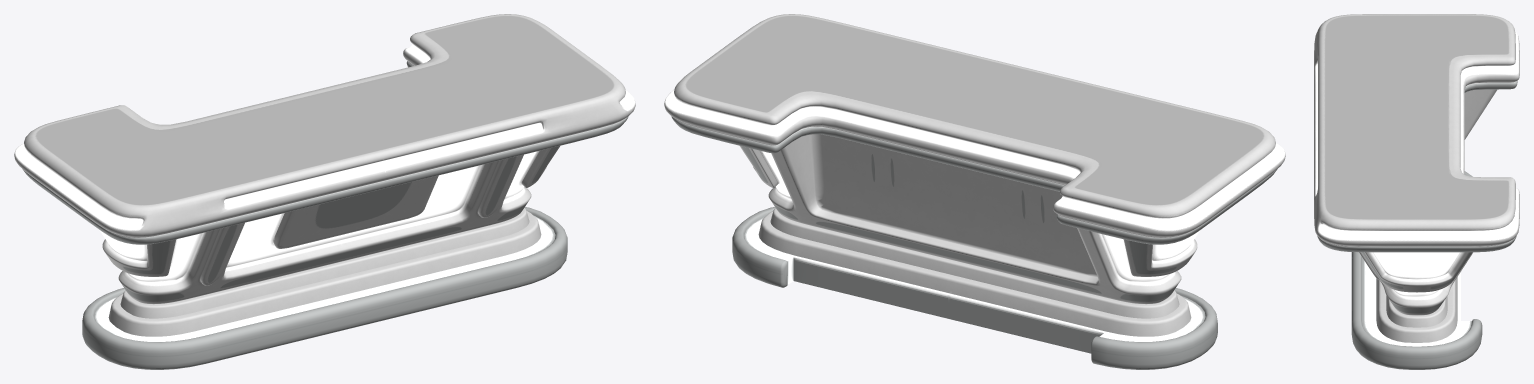
Rendered from BartenderTable01.FBX.
3 views of the same model, side by side, from view 1: azimuth 30°, elevation 25°; view 2: azimuth 150°, elevation 25°; view 3: azimuth 270°, elevation 25° (orthographic). The views are drawn at different scales.
Visible parts, largest first — view 1: BartenderTable01; view 2: BartenderTable01; view 3: BartenderTable01.
Boxes of the visible parts, x1=… form: BartenderTable01: x1=14, y1=14, x2=635, y2=369; BartenderTable01: x1=664, y1=14, x2=1285, y2=369; BartenderTable01: x1=1314, y1=14, x2=1519, y2=369.
Size of what is drawn, in the model's own units: 3.22 by 1.1 by 1.29.
